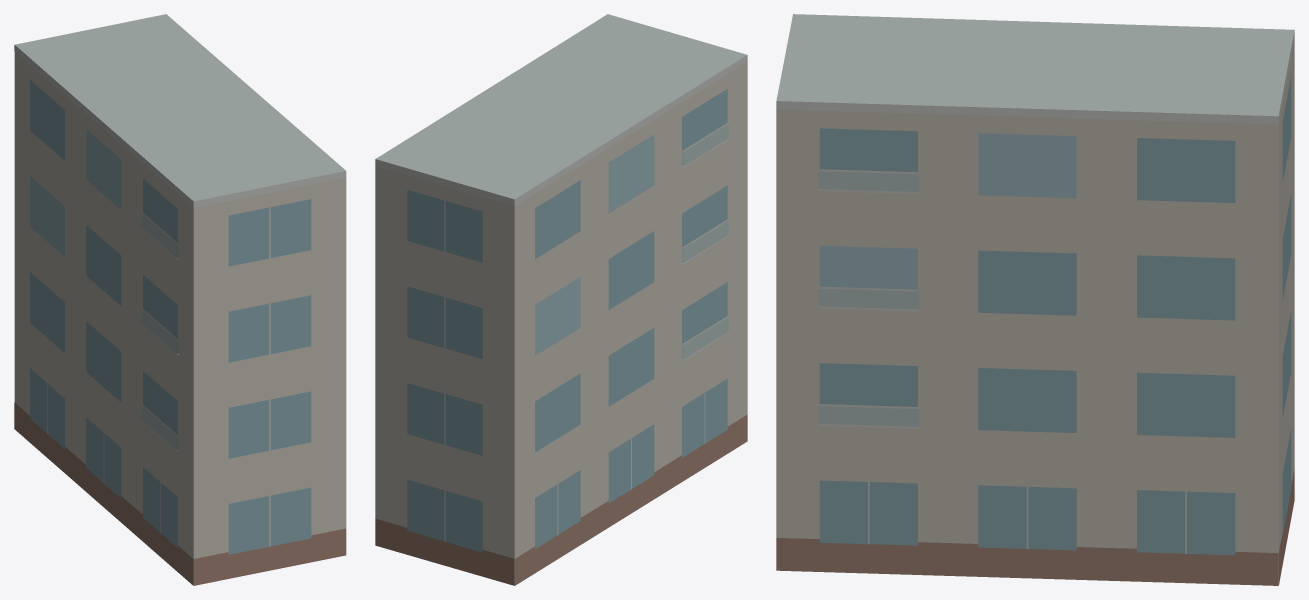
The model's file is survey-upis-32467286.glb.
The picture shows the model from 3 angles, left to right: view 1: azimuth 30°, elevation 25°; view 2: azimuth 150°, elevation 25°; view 3: azimuth 270°, elevation 25°; orthographic projection. The views are drawn at different scales.
Parts seen in each view (by area): view 1: survey-upis-32467286.tmp; view 2: survey-upis-32467286.tmp; view 3: survey-upis-32467286.tmp.
Part boxes in pixels (x1,y1,x2,y2): survey-upis-32467286.tmp: [14, 14, 346, 585]; survey-upis-32467286.tmp: [375, 14, 747, 585]; survey-upis-32467286.tmp: [776, 14, 1294, 585].
Bounding box in the file's own units: 6.48 × 13.85 × 13.86.
